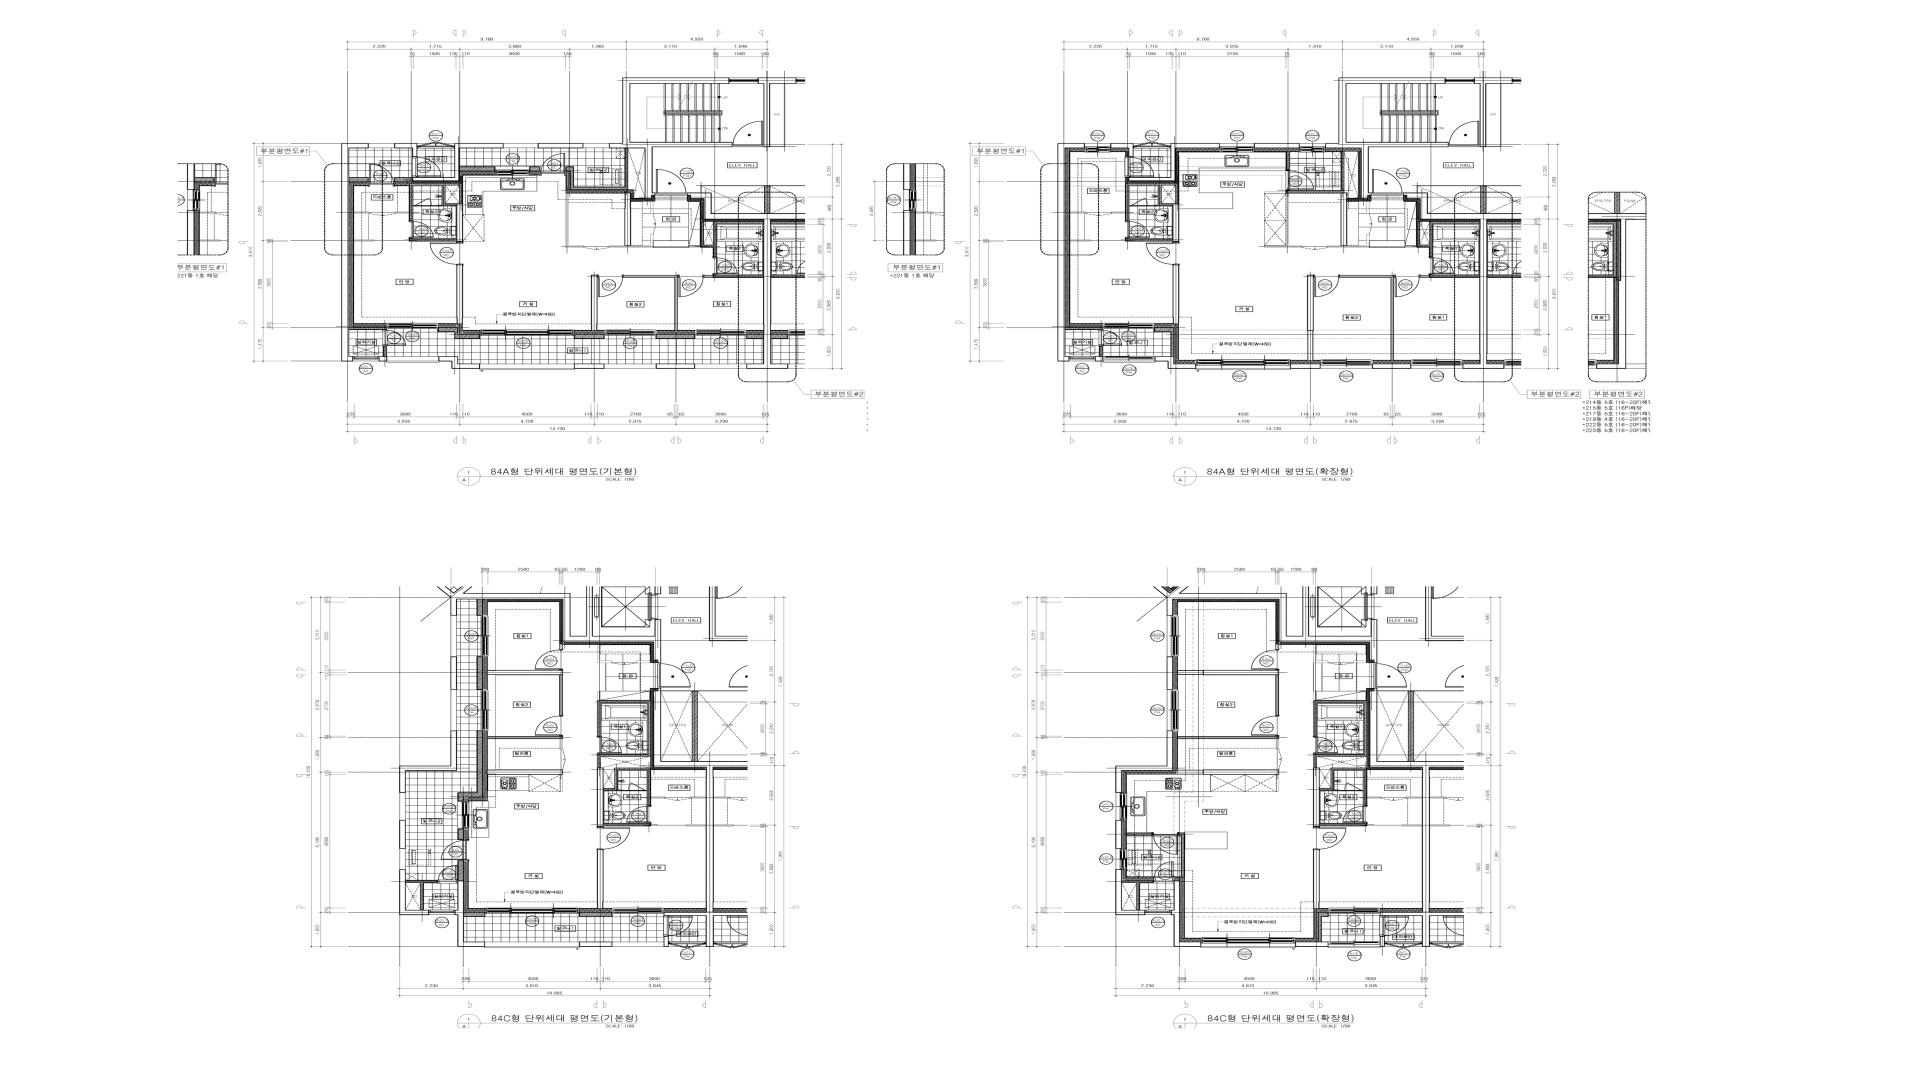door: (1371, 169, 1403, 195), (1449, 120, 1481, 146), (655, 169, 687, 195), (732, 120, 764, 146), (1146, 241, 1180, 265), (658, 663, 691, 687), (430, 241, 463, 265), (1374, 663, 1407, 687), (1313, 825, 1346, 849), (597, 827, 630, 849), (663, 915, 692, 936), (411, 157, 442, 177), (1313, 274, 1340, 297), (1394, 274, 1420, 297), (597, 274, 624, 297), (678, 274, 704, 297), (1153, 832, 1179, 855), (535, 649, 563, 670), (1251, 649, 1279, 670), (440, 840, 469, 860), (1286, 170, 1315, 190), (1125, 157, 1154, 177), (1379, 916, 1408, 936), (369, 164, 394, 186), (541, 153, 566, 175), (535, 716, 563, 736), (1251, 716, 1279, 736), (409, 220, 434, 239), (1125, 220, 1150, 239), (1313, 736, 1338, 754), (596, 736, 622, 753), (626, 806, 651, 823), (1429, 257, 1455, 274), (712, 257, 737, 274), (1342, 806, 1367, 823), (1154, 861, 1174, 882), (1098, 330, 1122, 345), (382, 330, 406, 345), (438, 865, 458, 884), (417, 141, 455, 148), (669, 942, 705, 948), (1385, 942, 1422, 948), (628, 782, 645, 791), (1345, 782, 1362, 791), (415, 198, 433, 206), (1131, 198, 1149, 206), (560, 749, 566, 769), (369, 212, 396, 216), (1381, 796, 1407, 800), (1276, 749, 1282, 769), (665, 796, 690, 800), (1087, 212, 1112, 216), (612, 662, 637, 665), (1303, 247, 1328, 249), (584, 247, 609, 249), (1328, 662, 1353, 665)
wall: (653, 687, 748, 947), (1370, 687, 1464, 947), (687, 193, 806, 369), (436, 585, 662, 663), (1153, 585, 1378, 663), (1325, 78, 1449, 199), (1403, 193, 1487, 369), (609, 78, 732, 199), (1265, 152, 1345, 248), (1058, 142, 1085, 361), (342, 142, 368, 361), (1178, 670, 1279, 716), (1340, 276, 1394, 361), (1313, 700, 1367, 767), (597, 700, 651, 767), (400, 731, 458, 793), (1116, 731, 1174, 793), (411, 142, 504, 181), (487, 670, 563, 716), (1129, 142, 1220, 181), (704, 224, 764, 278), (1420, 224, 1480, 278), (624, 276, 678, 331), (1320, 767, 1367, 827), (1474, 78, 1513, 146), (758, 78, 796, 146), (566, 148, 628, 190), (1112, 183, 1179, 220), (396, 183, 463, 220), (609, 193, 653, 248), (1328, 193, 1370, 248), (1178, 769, 1279, 791), (700, 222, 764, 257), (1416, 222, 1480, 257), (709, 585, 748, 641), (1425, 585, 1464, 641), (455, 881, 485, 947), (1171, 881, 1201, 947), (604, 767, 651, 806), (458, 731, 483, 802), (1125, 206, 1174, 241), (603, 791, 651, 827), (487, 769, 563, 791), (409, 206, 456, 241), (400, 869, 429, 915), (1178, 736, 1279, 749), (1116, 869, 1145, 915), (487, 736, 563, 749), (1486, 83, 1502, 146), (566, 194, 584, 248), (1122, 880, 1154, 910), (406, 880, 438, 910), (770, 83, 785, 146), (700, 185, 806, 193), (1416, 185, 1522, 193), (1154, 327, 1174, 356), (1307, 274, 1313, 360), (1155, 356, 1196, 369), (439, 356, 480, 369), (438, 327, 480, 339), (1313, 767, 1320, 827), (1313, 849, 1320, 909), (456, 265, 463, 324), (597, 767, 604, 827), (597, 849, 604, 909), (1172, 265, 1179, 323), (591, 274, 597, 331), (1408, 691, 1414, 761), (692, 691, 698, 761), (1110, 142, 1134, 157), (394, 142, 417, 157), (1319, 913, 1329, 942), (1179, 832, 1185, 877), (1313, 645, 1328, 663), (597, 645, 612, 663), (1172, 203, 1179, 241), (456, 203, 463, 241), (1254, 142, 1300, 148), (538, 142, 583, 148), (451, 657, 458, 690), (1167, 657, 1174, 690), (476, 657, 483, 690), (655, 364, 695, 369), (655, 334, 695, 339), (1373, 364, 1411, 369), (1116, 820, 1122, 849), (460, 166, 496, 171), (400, 820, 406, 848), (579, 942, 612, 947), (579, 911, 612, 916), (574, 334, 605, 339), (1296, 942, 1328, 947), (1291, 364, 1321, 369), (575, 364, 604, 369), (765, 186, 770, 214), (1481, 186, 1486, 214), (458, 860, 464, 881), (661, 690, 748, 691), (1378, 690, 1464, 691), (476, 599, 483, 616), (1126, 832, 1153, 836), (349, 177, 369, 182), (1065, 327, 1102, 330), (394, 177, 413, 182), (349, 327, 386, 330), (746, 334, 764, 339), (464, 913, 485, 916), (458, 828, 464, 840), (1286, 152, 1290, 170), (529, 166, 541, 171), (663, 936, 669, 947), (1402, 824, 1423, 827), (1098, 345, 1104, 356), (353, 239, 375, 241), (686, 824, 705, 827), (1095, 356, 1104, 361), (1071, 211, 1087, 214), (353, 211, 369, 214), (378, 356, 386, 361), (382, 345, 386, 356), (1381, 936, 1385, 947), (1353, 661, 1366, 663), (637, 661, 650, 663), (650, 202, 653, 214), (1367, 202, 1370, 214), (1071, 240, 1091, 241), (559, 644, 563, 649), (1275, 644, 1279, 649), (1407, 796, 1423, 798), (690, 796, 705, 798), (1367, 796, 1381, 798), (651, 796, 665, 798)
window: (1201, 938, 1296, 948), (1196, 360, 1291, 369), (485, 942, 579, 948), (485, 907, 579, 914), (480, 330, 574, 336), (480, 364, 575, 369), (1167, 616, 1179, 657), (1167, 690, 1179, 731), (1411, 359, 1462, 368), (1321, 360, 1373, 368), (386, 356, 439, 363), (1328, 942, 1381, 948), (1328, 907, 1381, 914), (612, 907, 663, 914), (1104, 356, 1155, 363), (1116, 793, 1127, 820), (458, 802, 469, 828), (496, 166, 529, 175), (612, 942, 663, 947), (1102, 323, 1154, 328), (1220, 144, 1254, 152), (386, 323, 438, 328), (604, 330, 655, 335), (695, 330, 746, 335), (481, 616, 488, 657), (481, 690, 488, 731), (1134, 141, 1171, 148), (1116, 849, 1127, 869), (451, 615, 456, 657), (451, 690, 456, 731), (1299, 144, 1325, 152), (604, 364, 657, 368), (695, 364, 746, 368), (1085, 144, 1110, 152), (1445, 78, 1474, 83), (729, 78, 758, 83), (400, 793, 405, 820), (400, 848, 406, 869), (429, 910, 455, 915), (352, 356, 378, 361), (1145, 910, 1171, 915), (504, 144, 538, 148), (1069, 356, 1095, 361), (368, 144, 394, 148), (583, 144, 609, 148)
